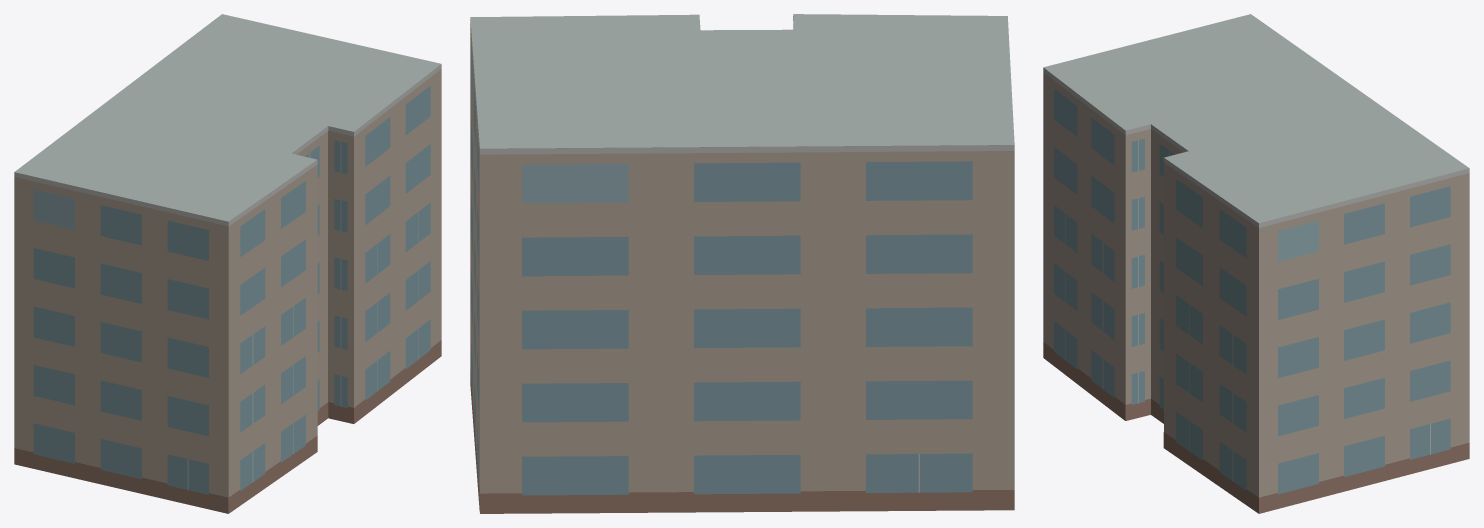
File: survey-upis-32770047.glb
3 renders of one model, left to right at view 1: azimuth 30°, elevation 25°; view 2: azimuth 150°, elevation 25°; view 3: azimuth 270°, elevation 25°, orthographic. The views are drawn at different scales.
Visible parts, largest first — view 1: survey-upis-32770047.tmp; view 2: survey-upis-32770047.tmp; view 3: survey-upis-32770047.tmp.
Boxes of the visible parts, x1,y1,x2,y2 form: survey-upis-32770047.tmp: [14, 14, 441, 513]; survey-upis-32770047.tmp: [470, 14, 1014, 513]; survey-upis-32770047.tmp: [1043, 14, 1469, 513].
Bounding box in the file's own units: 23.03 × 14.9 × 19.82.
